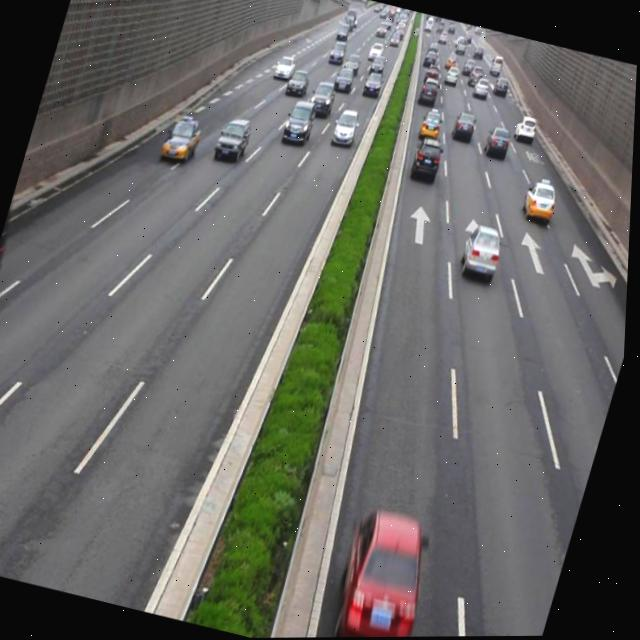car: (329, 500, 445, 638), (458, 221, 508, 281), (160, 111, 205, 166), (212, 113, 255, 164), (279, 96, 320, 147), (520, 177, 561, 226), (409, 133, 447, 183), (306, 78, 340, 119), (330, 105, 362, 148), (481, 122, 515, 162), (449, 107, 481, 145), (416, 105, 446, 142), (284, 65, 313, 99), (511, 112, 539, 142)
truck: (0, 172, 28, 320)
